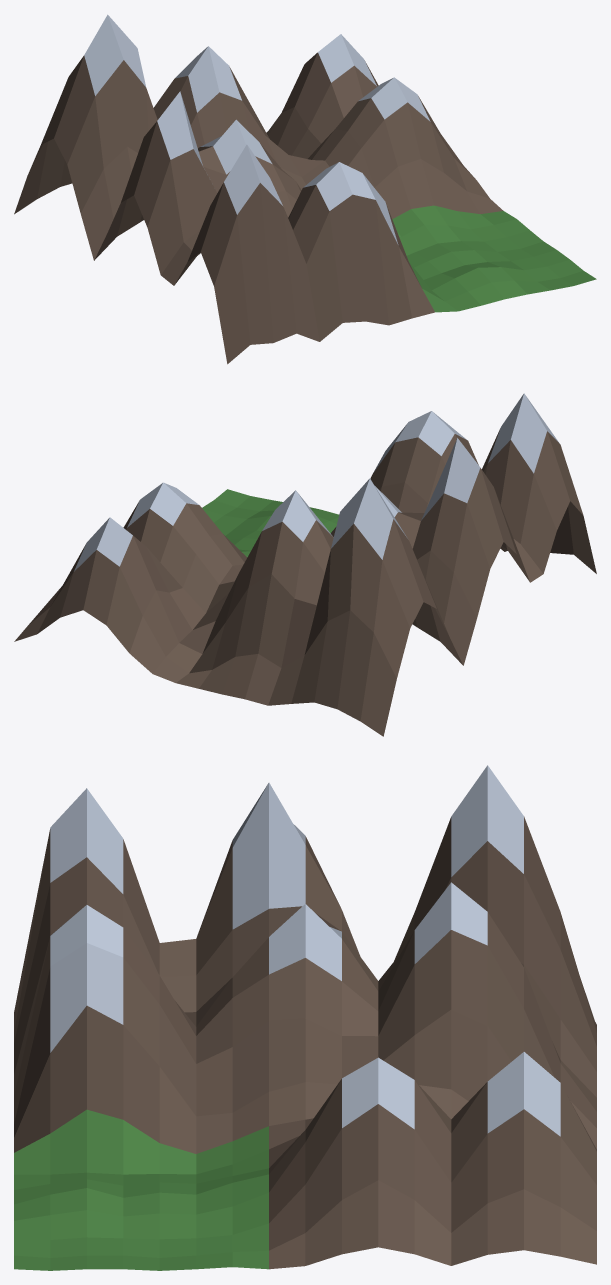
Rendered from MountainModel2.fbx.
3 views of the same model, one above another, from view 1: azimuth 30°, elevation 25°; view 2: azimuth 150°, elevation 25°; view 3: azimuth 270°, elevation 25° (orthographic). The views are drawn at different scales.
Parts seen in each view (by area): view 1: Plane.001; view 2: Plane.001; view 3: Plane.001.
Boxes of the visible parts, x1,y1,x2,y2 form: Plane.001: [14, 14, 596, 364]; Plane.001: [14, 393, 596, 736]; Plane.001: [14, 765, 596, 1270].
Bounding box in the file's own units: 1000 × 564 × 1000.
